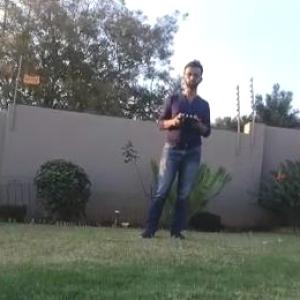follow: (135, 51, 213, 240)
